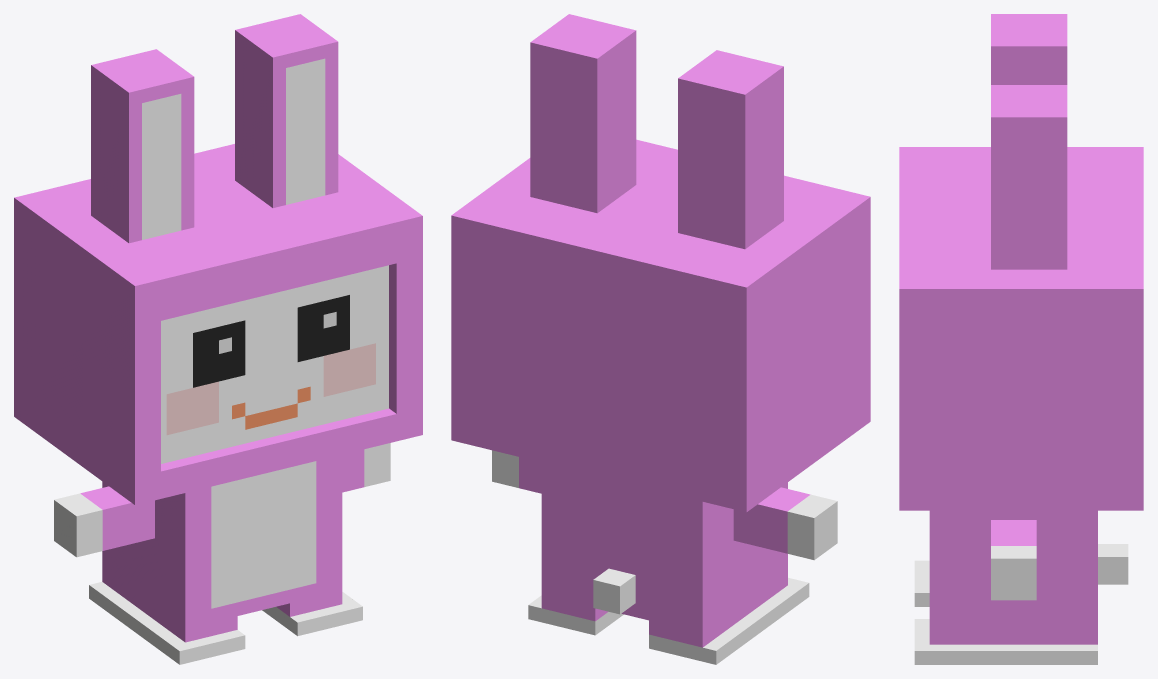
3 views of the same model, side by side, from view 1: azimuth 30°, elevation 25°; view 2: azimuth 150°, elevation 25°; view 3: azimuth 270°, elevation 25° (orthographic). The views are drawn at different scales.
Visible parts, largest first — view 1: 톡히3; view 2: 톡히3; view 3: 톡히3.
Part boxes in pixels (bbox=[...]): 톡히3: bbox=[14, 14, 422, 664]; 톡히3: bbox=[451, 14, 870, 664]; 톡히3: bbox=[899, 14, 1143, 664].
Bounding box in the file's own units: 24 × 40 × 16.
1 material, 1 textured.
